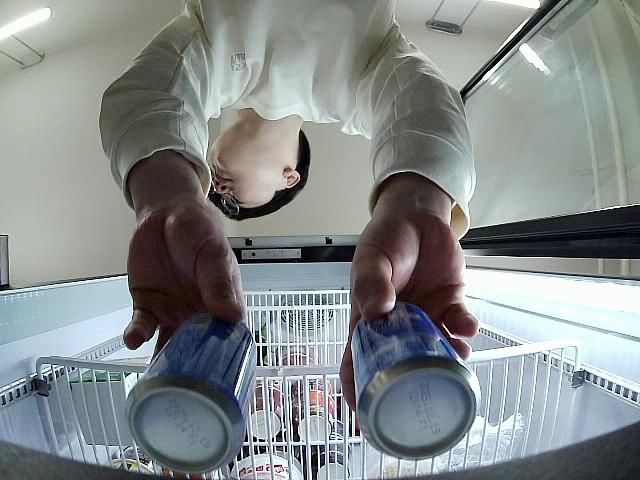00_hand: (339, 211, 479, 409), (123, 199, 251, 367)
15_letsbe: (350, 301, 480, 459), (125, 317, 255, 474)
